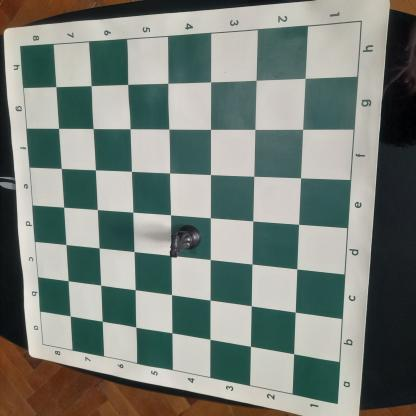black-knight: (168, 224, 202, 258)
